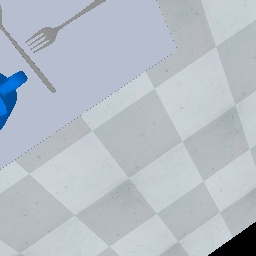Fork: (21, 16, 90, 55)
Mug: (0, 68, 28, 131)
Spoon: (1, 16, 58, 96)
